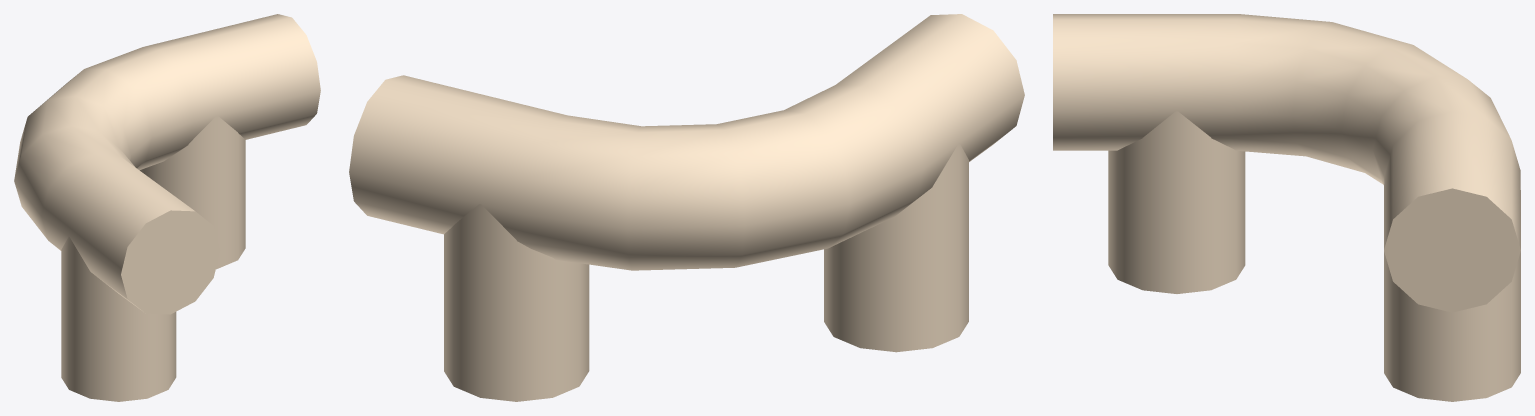
The model's file is zabor ugol.fbx.
3 views of the same model, side by side, from view 1: azimuth 30°, elevation 25°; view 2: azimuth 150°, elevation 25°; view 3: azimuth 270°, elevation 25° (orthographic). The views are drawn at different scales.
Visible parts, largest first — view 1: zabor ugol.001; view 2: zabor ugol.001; view 3: zabor ugol.001.
Boxes of the visible parts, left/top/right/bottom form: zabor ugol.001: left=14, top=14, right=320, bottom=401; zabor ugol.001: left=349, top=14, right=1024, bottom=401; zabor ugol.001: left=1053, top=14, right=1520, bottom=401.
Bounding box in the file's own units: 293 × 170 × 294.
